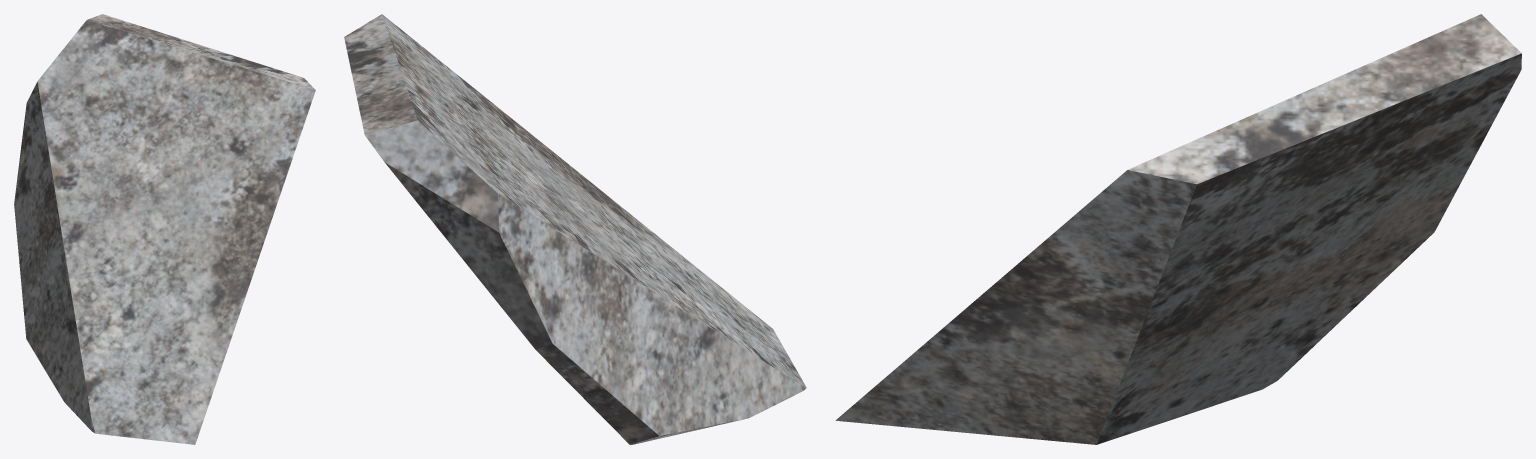
Rendered from Asteroid_Large_001_02_002_03_013.fbx.
3 views of the same model, side by side, from view 1: azimuth 30°, elevation 25°; view 2: azimuth 150°, elevation 25°; view 3: azimuth 270°, elevation 25° (orthographic). The views are drawn at different scales.
Visible parts, largest first — view 1: Asteroid_Large_001_02_002_03_013; view 2: Asteroid_Large_001_02_002_03_013; view 3: Asteroid_Large_001_02_002_03_013.
Part boxes in pixels (x1,y1,x2,y2): Asteroid_Large_001_02_002_03_013: [14, 14, 315, 444]; Asteroid_Large_001_02_002_03_013: [344, 14, 806, 444]; Asteroid_Large_001_02_002_03_013: [835, 14, 1521, 444].
Bounding box in the file's own units: 8.57 × 8.07 × 10.61.
